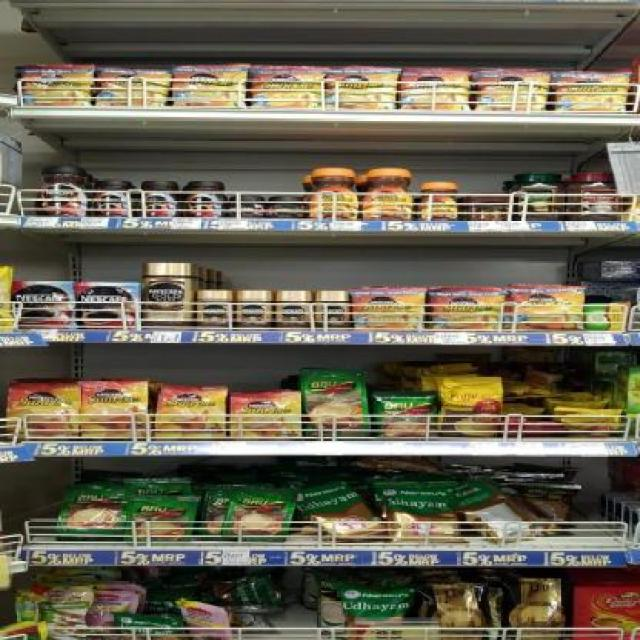Coffee: (7, 386, 76, 440), (80, 383, 146, 439), (157, 388, 225, 439), (144, 262, 193, 329), (230, 393, 302, 438), (397, 68, 471, 110), (12, 280, 73, 329), (174, 66, 244, 108), (510, 288, 579, 330), (430, 290, 502, 330), (255, 66, 323, 108), (75, 283, 138, 328), (18, 65, 90, 104), (553, 73, 625, 112), (306, 167, 360, 219), (359, 168, 415, 218), (352, 290, 422, 330), (36, 164, 89, 216), (329, 67, 396, 108), (478, 72, 544, 111), (99, 68, 164, 106), (182, 179, 224, 218), (91, 178, 134, 216), (137, 179, 178, 218), (418, 182, 460, 218), (195, 289, 232, 329), (315, 290, 350, 332), (276, 290, 312, 330), (237, 290, 272, 330), (268, 195, 307, 218), (228, 194, 266, 217)
